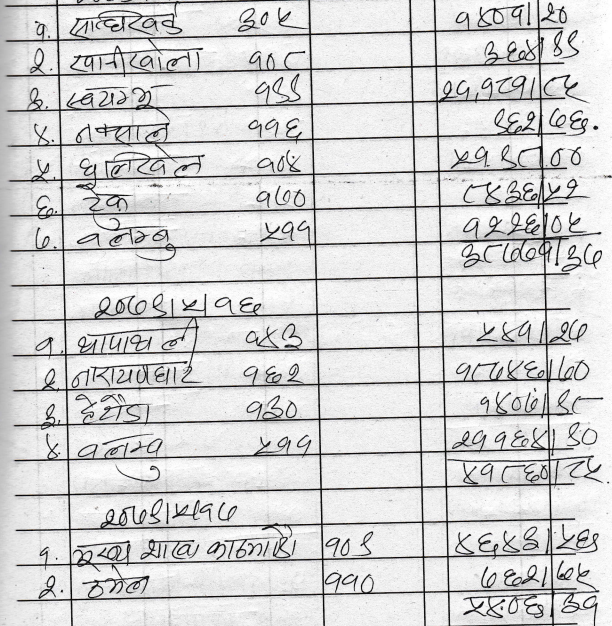text: (71, 146, 206, 188), (453, 523, 603, 558), (66, 40, 206, 75), (452, 350, 594, 384), (93, 288, 265, 316), (457, 591, 602, 624), (74, 320, 203, 357), (454, 239, 603, 271), (447, 423, 608, 452), (73, 432, 166, 482), (439, 69, 588, 100), (459, 457, 607, 488), (98, 495, 240, 525), (444, 141, 586, 170), (475, 559, 599, 591), (74, 226, 179, 263), (448, 1, 576, 31), (68, 4, 186, 36), (204, 525, 302, 563), (471, 316, 590, 347), (471, 391, 606, 418), (69, 360, 208, 386), (458, 176, 588, 203), (458, 212, 594, 237), (73, 110, 173, 143), (70, 390, 157, 427), (487, 104, 592, 134), (481, 36, 584, 65), (71, 187, 137, 231), (63, 84, 160, 108), (84, 565, 152, 599), (243, 321, 307, 353), (258, 214, 316, 248), (235, 4, 302, 33), (65, 542, 134, 570), (248, 73, 306, 104), (244, 114, 308, 142), (323, 568, 380, 599), (248, 391, 300, 424), (251, 183, 310, 212), (253, 431, 313, 459), (241, 359, 303, 386), (135, 537, 202, 561), (321, 533, 381, 559), (253, 149, 305, 177), (240, 47, 306, 69), (40, 428, 67, 464), (23, 85, 51, 114), (26, 121, 54, 149), (28, 157, 54, 186), (34, 366, 59, 394), (26, 45, 47, 78), (25, 229, 56, 251), (36, 575, 59, 604), (36, 192, 54, 225), (31, 336, 58, 358), (31, 16, 51, 44), (37, 404, 59, 429), (38, 546, 52, 569)
